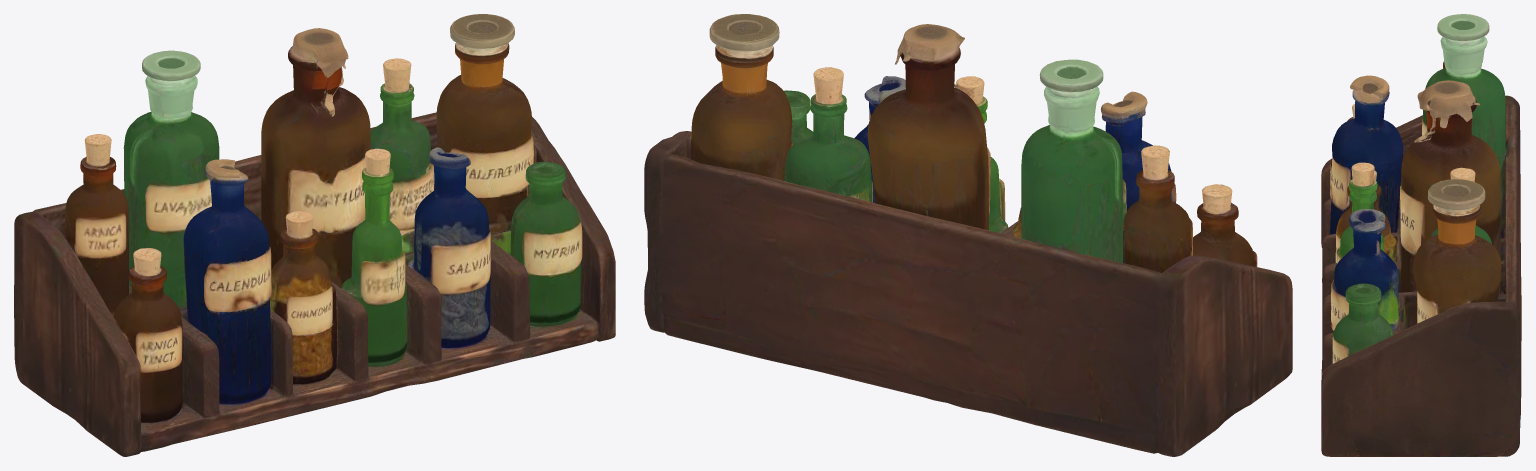
Rendered from apothecary.glb.
The picture shows the model from 3 angles, left to right: view 1: azimuth 30°, elevation 25°; view 2: azimuth 150°, elevation 25°; view 3: azimuth 270°, elevation 25°; orthographic projection. The views are drawn at different scales.
Parts seen in each view (by area): view 1: Mesh_0; view 2: Mesh_0; view 3: Mesh_0.
Boxes of the visible parts, x1,y1,x2,y2 form: Mesh_0: [14, 14, 615, 456]; Mesh_0: [644, 14, 1292, 456]; Mesh_0: [1321, 14, 1521, 456].
Size of the model in its own units: 1.9 by 1.14 by 0.7504.
1 material, 1 textured.
